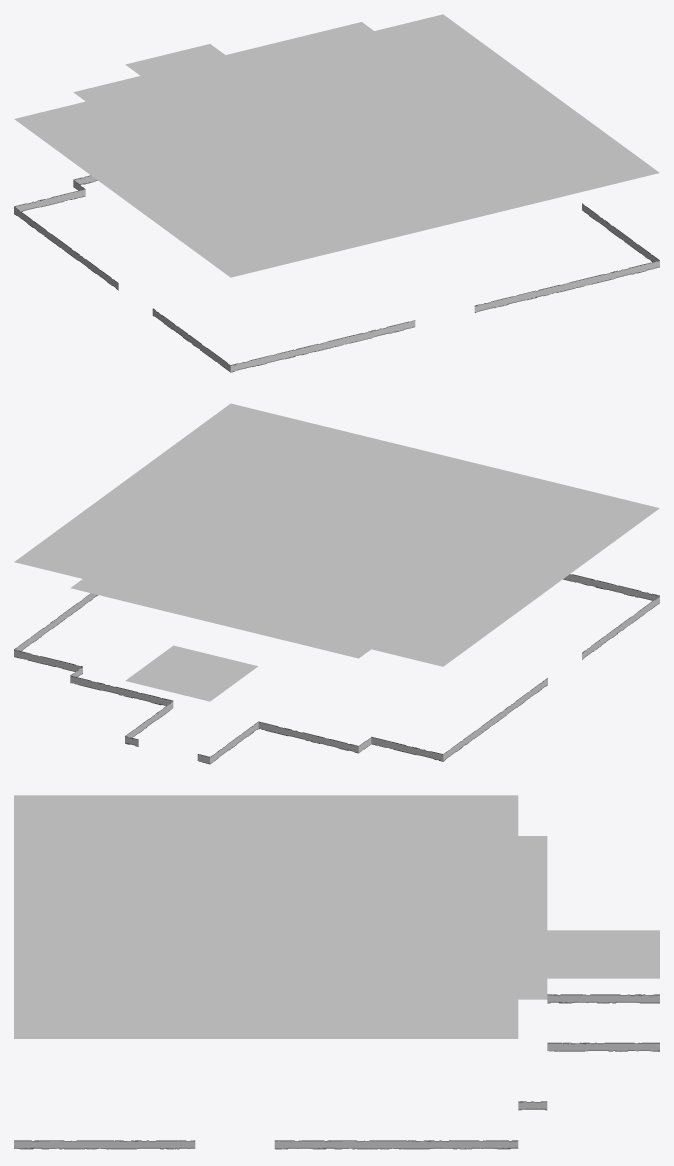
File: Rotated_Roof_nd_Strip.fbx
3 renders of one model, top to bottom at view 1: azimuth 30°, elevation 25°; view 2: azimuth 150°, elevation 25°; view 3: azimuth 270°, elevation 25°, orthographic. The views are drawn at different scales.
Parts seen in each view (by area): view 1: Roof_rotated, Strip; view 2: Roof_rotated, Strip; view 3: Roof_rotated, Strip.
Part boxes in pixels (left/top/right/bottom): Roof_rotated: left=14, top=14, right=659, bottom=277; Strip: left=14, top=175, right=659, bottom=372; Roof_rotated: left=14, top=403, right=659, bottom=701; Strip: left=14, top=574, right=659, bottom=764; Roof_rotated: left=14, top=795, right=659, bottom=1038; Strip: left=14, top=994, right=659, bottom=1149.
Size of the model in its own units: 46.96 by 10.13 by 52.61.
